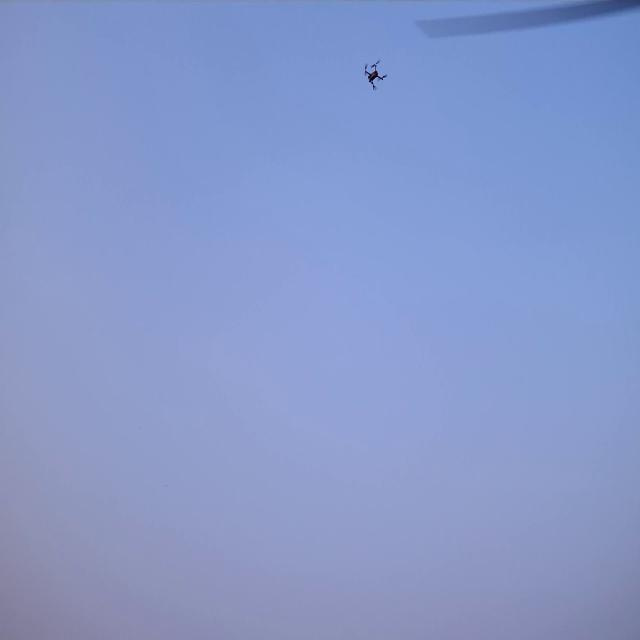UAV: (365, 63, 385, 89)
